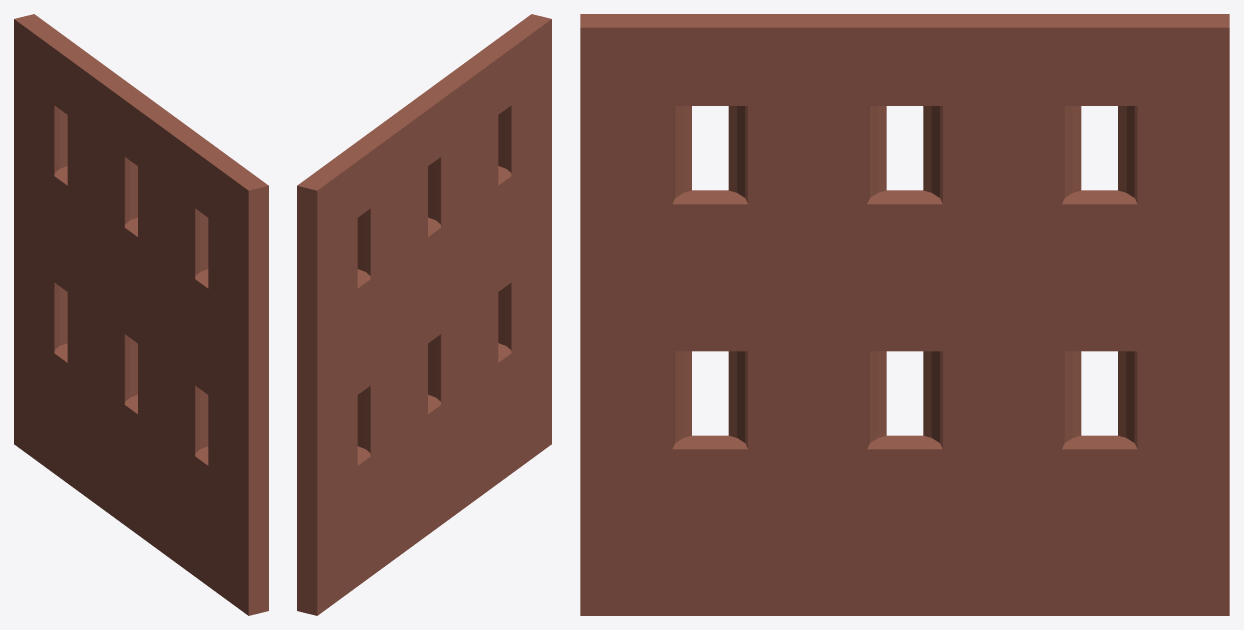
Rendered from modleV1.glb.
3 views of the same model, side by side, from view 1: azimuth 30°, elevation 25°; view 2: azimuth 150°, elevation 25°; view 3: azimuth 270°, elevation 25° (orthographic). The views are drawn at different scales.
Parts seen in each view (by area): view 1: Wall; view 2: Wall; view 3: Wall.
Part boxes in pixels (x1,y1,x2,y2): Wall: (14,14,268,615); Wall: (297,14,551,615); Wall: (580,14,1229,615).
Bounding box in the file's own units: 0.3 × 6 × 6.
